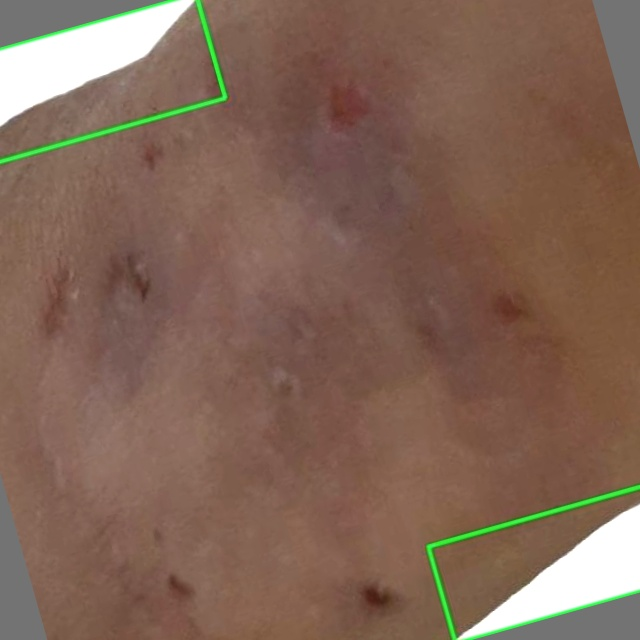Tinea Corporis: (0, 0, 225, 161), (428, 486, 639, 639)
